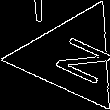N_NW: (36, 27, 107, 86)
